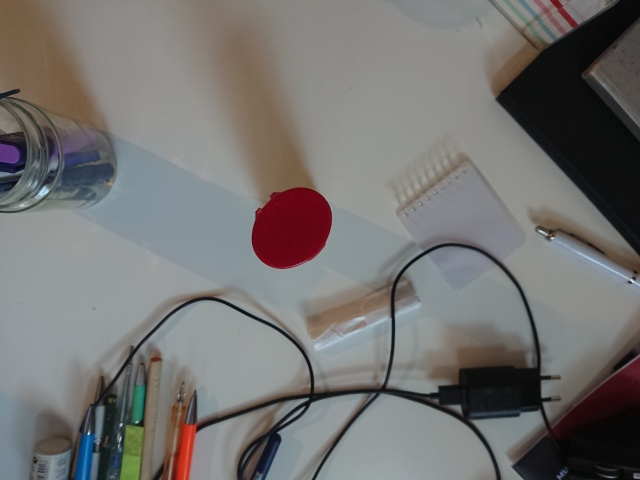Kotanyi Curry Spices Mix 70g: (249, 184, 335, 273)
